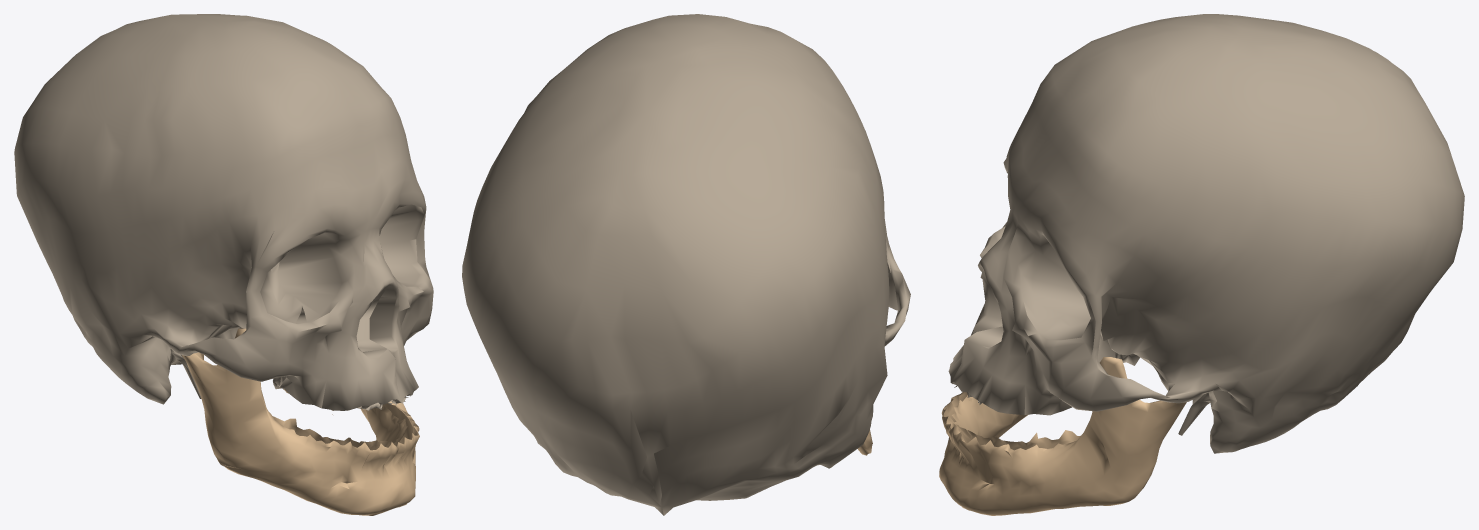
Rendered from skull-noteeth.obj.
3 renders of one model, left to right at view 1: azimuth 30°, elevation 25°; view 2: azimuth 150°, elevation 25°; view 3: azimuth 270°, elevation 25°, orthographic. The views are drawn at different scales.
Size of the model in its own units: 52.27 by 65.5 by 69.72.
